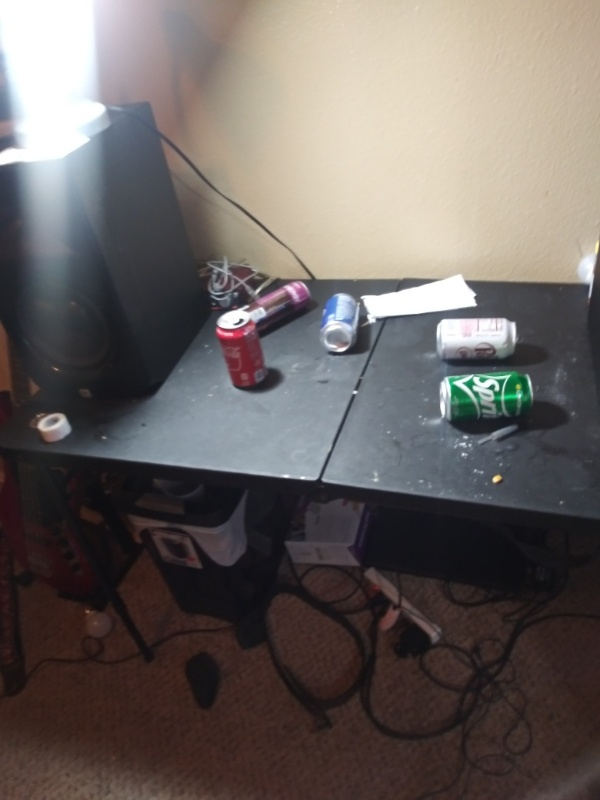can: (435, 367, 542, 431), (433, 315, 528, 367), (231, 277, 314, 335), (213, 310, 270, 392), (316, 290, 363, 357)
